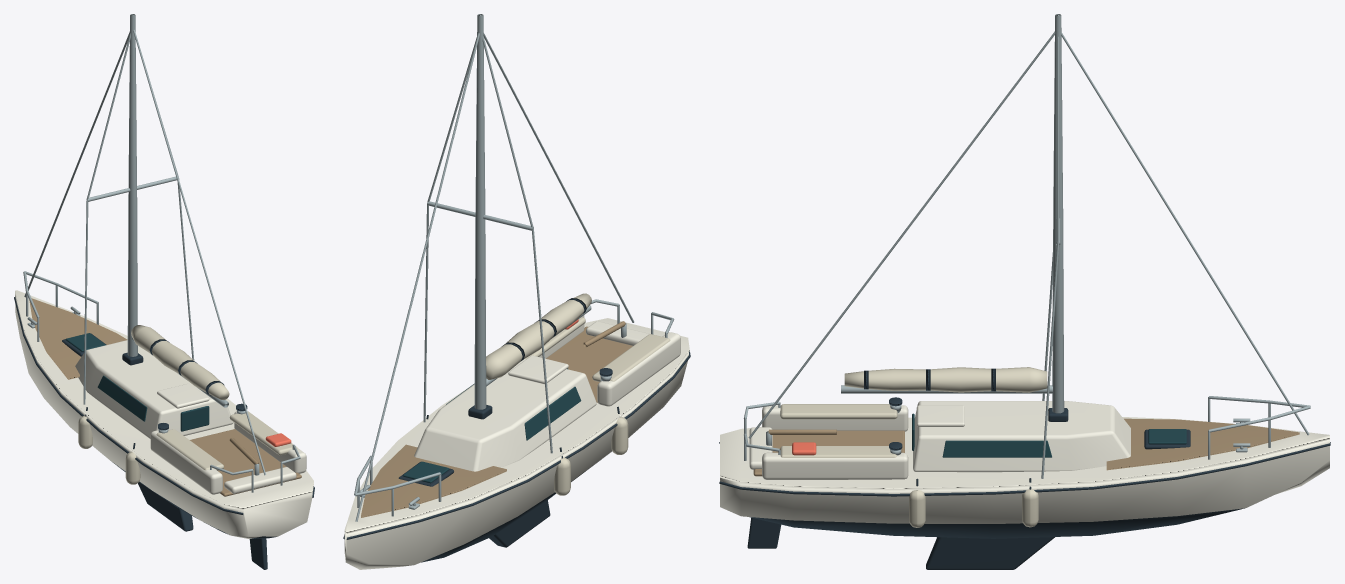
File: city_moored_yachts_02.glb
The picture shows the model from 3 angles, left to right: view 1: azimuth 30°, elevation 25°; view 2: azimuth 150°, elevation 25°; view 3: azimuth 270°, elevation 25°; orthographic projection. The views are drawn at different scales.
Parts seen in each view (by area): view 1: CityMooredYachts02_Mesh; view 2: CityMooredYachts02_Mesh; view 3: CityMooredYachts02_Mesh.
Part boxes in pixels (bbox=[...]): CityMooredYachts02_Mesh: bbox=[14, 14, 314, 569]; CityMooredYachts02_Mesh: bbox=[343, 14, 690, 569]; CityMooredYachts02_Mesh: bbox=[719, 14, 1330, 569].
Size of the model in its own units: 3.4 by 11.6 by 11.62.
